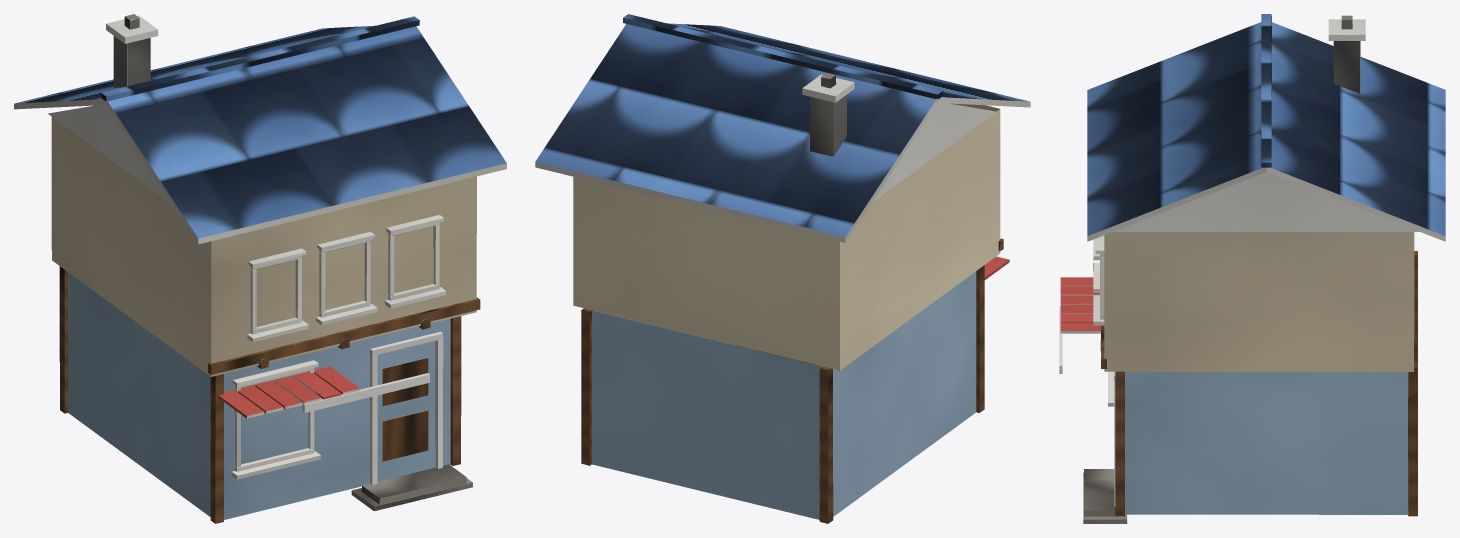
File: Env_House_Townhouse_B_LOD1.fbx
3 views of the same model, side by side, from view 1: azimuth 30°, elevation 25°; view 2: azimuth 150°, elevation 25°; view 3: azimuth 270°, elevation 25° (orthographic). The views are drawn at different scales.
Parts seen in each view (by area): view 1: Env_House_Townhouse_B_LOD1; view 2: Env_House_Townhouse_B_LOD1; view 3: Env_House_Townhouse_B_LOD1.
Boxes of the visible parts, bbox=[...] form: Env_House_Townhouse_B_LOD1: bbox=[14, 14, 506, 523]; Env_House_Townhouse_B_LOD1: bbox=[535, 14, 1030, 523]; Env_House_Townhouse_B_LOD1: bbox=[1059, 14, 1445, 523].
Size of the model in its own units: 523 by 575 by 671.
